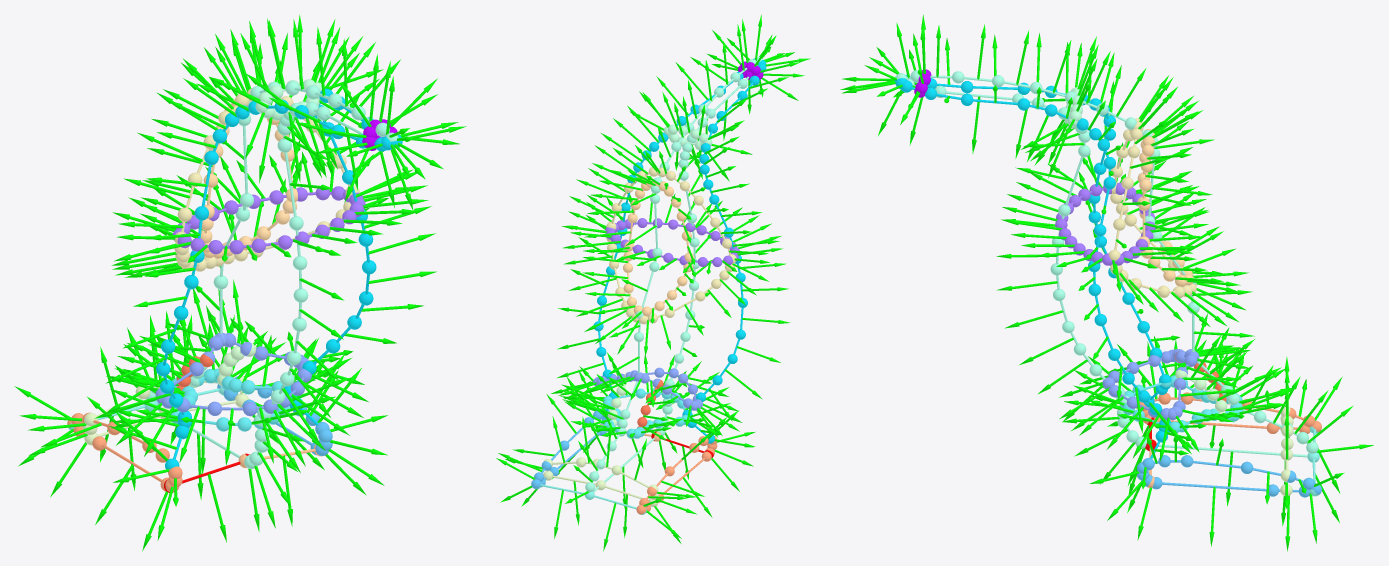
File: t2f_vacuum.gltf
3 views of the same model, side by side, from view 1: azimuth 30°, elevation 25°; view 2: azimuth 150°, elevation 25°; view 3: azimuth 270°, elevation 25° (orthographic). The views are drawn at different scales.
Size of the model in its own units: 0.5056 by 0.871 by 0.8566.
